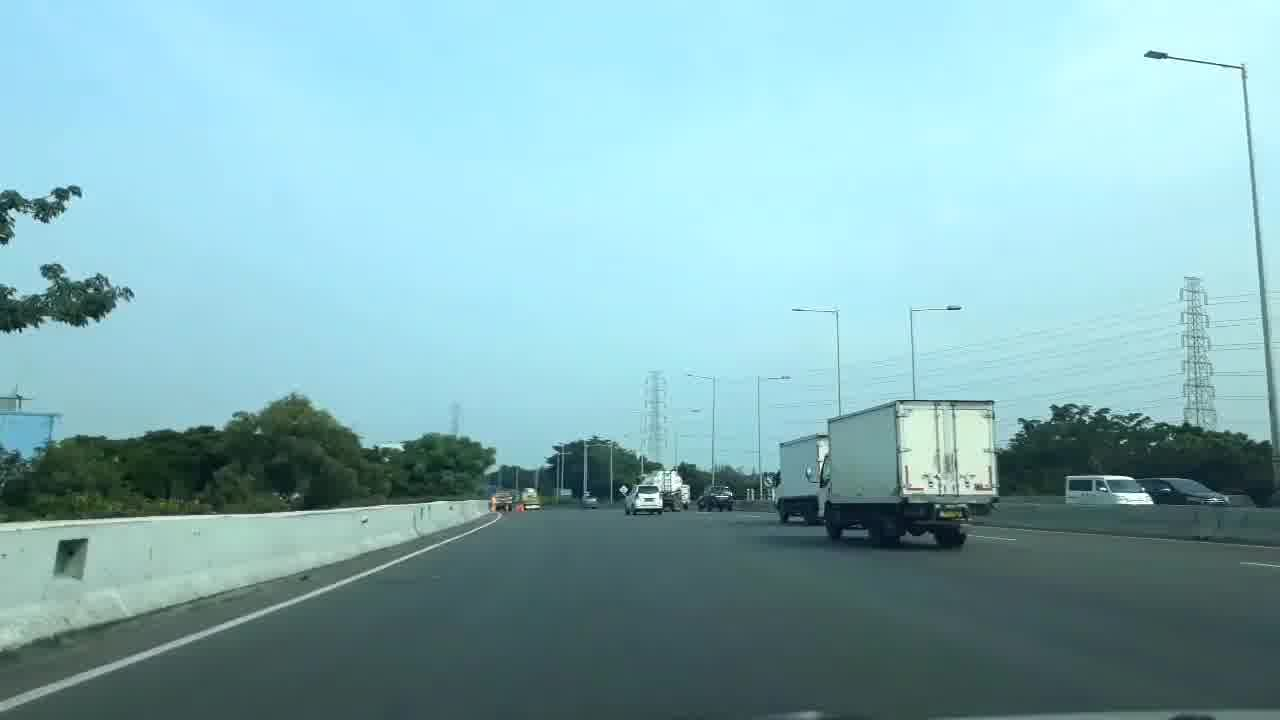plate_positive: (939, 508, 964, 518), (645, 498, 654, 502)
